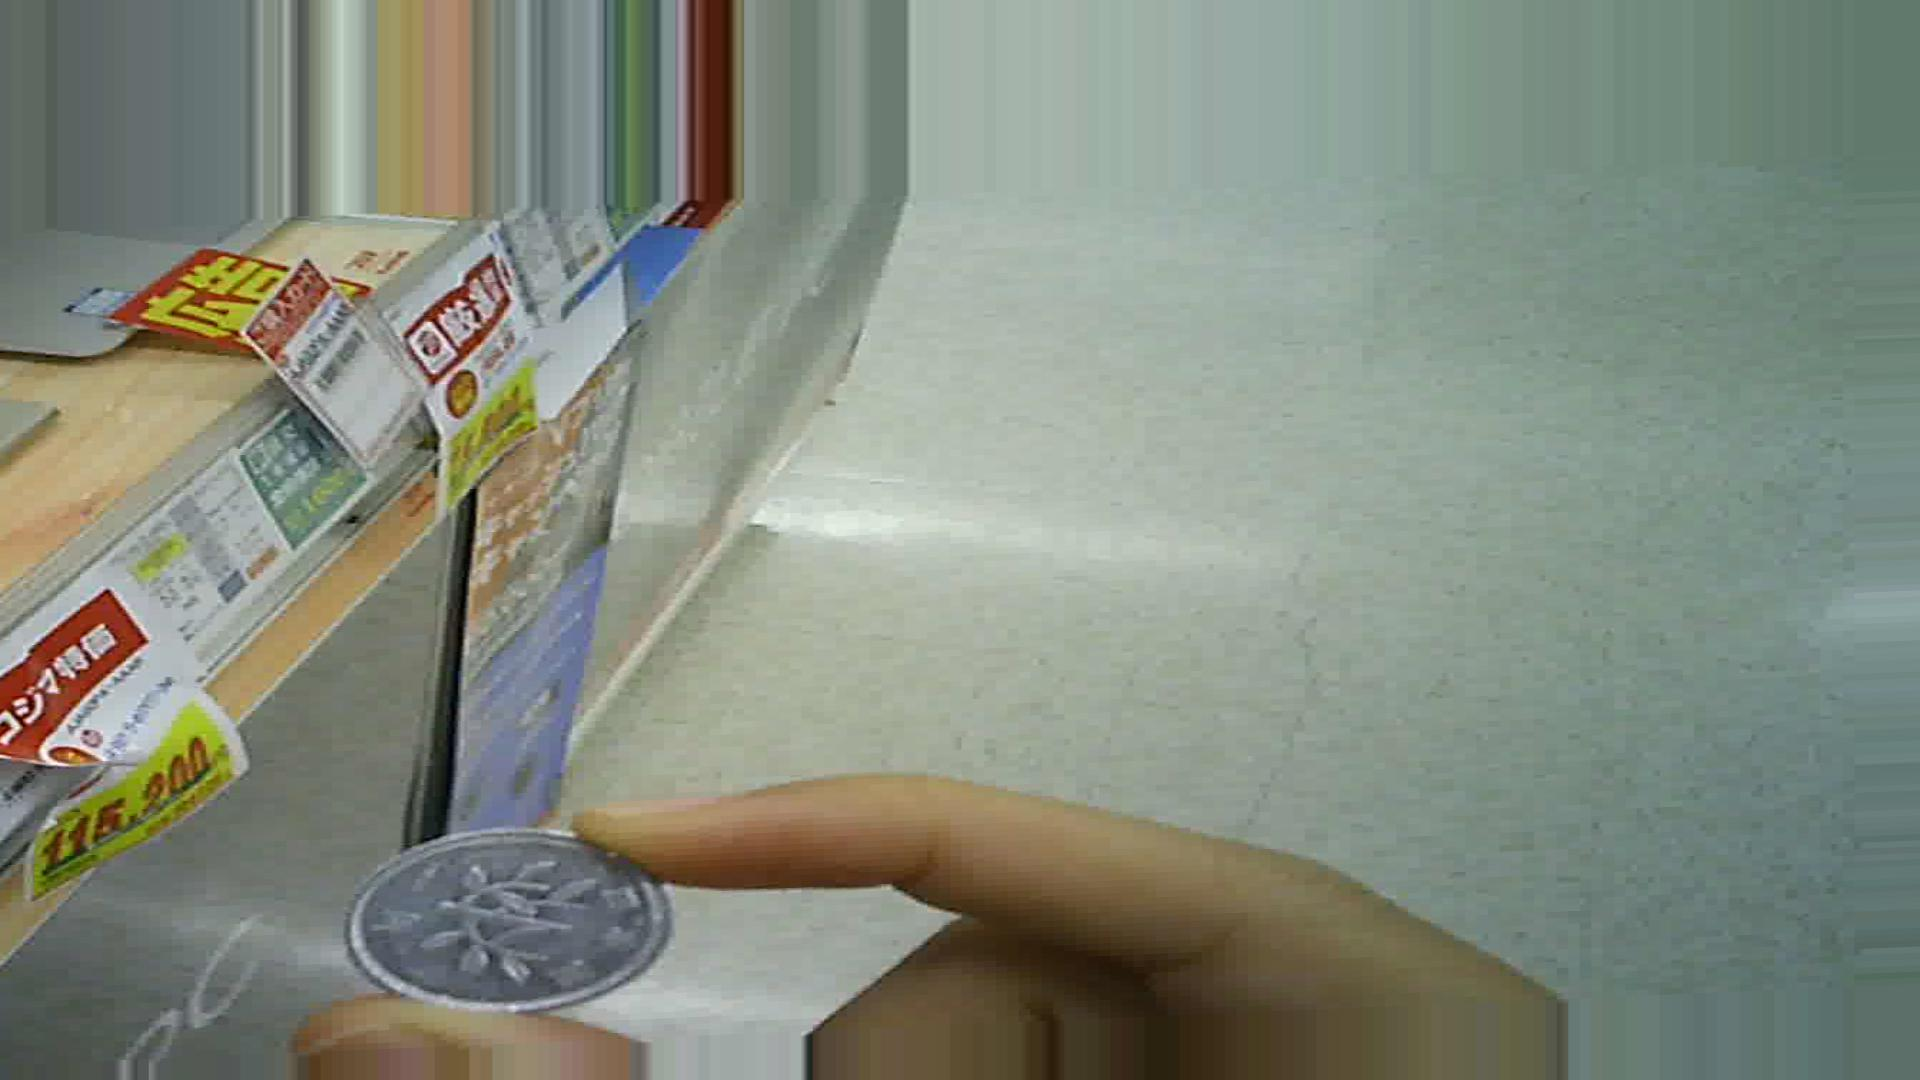1 Yen: (342, 822, 670, 1011)
